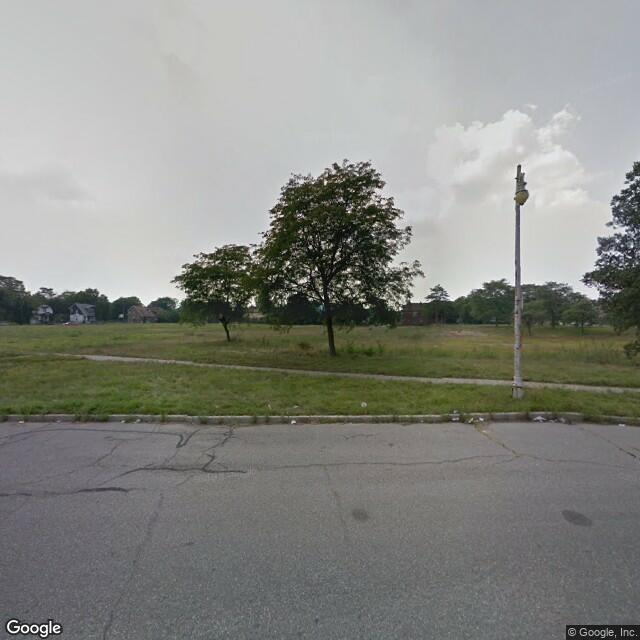litter: (534, 413, 548, 423), (286, 418, 303, 426), (118, 417, 129, 428), (14, 418, 31, 424), (449, 413, 459, 423), (468, 417, 481, 424), (617, 419, 628, 427), (359, 401, 369, 408), (136, 418, 142, 424)
